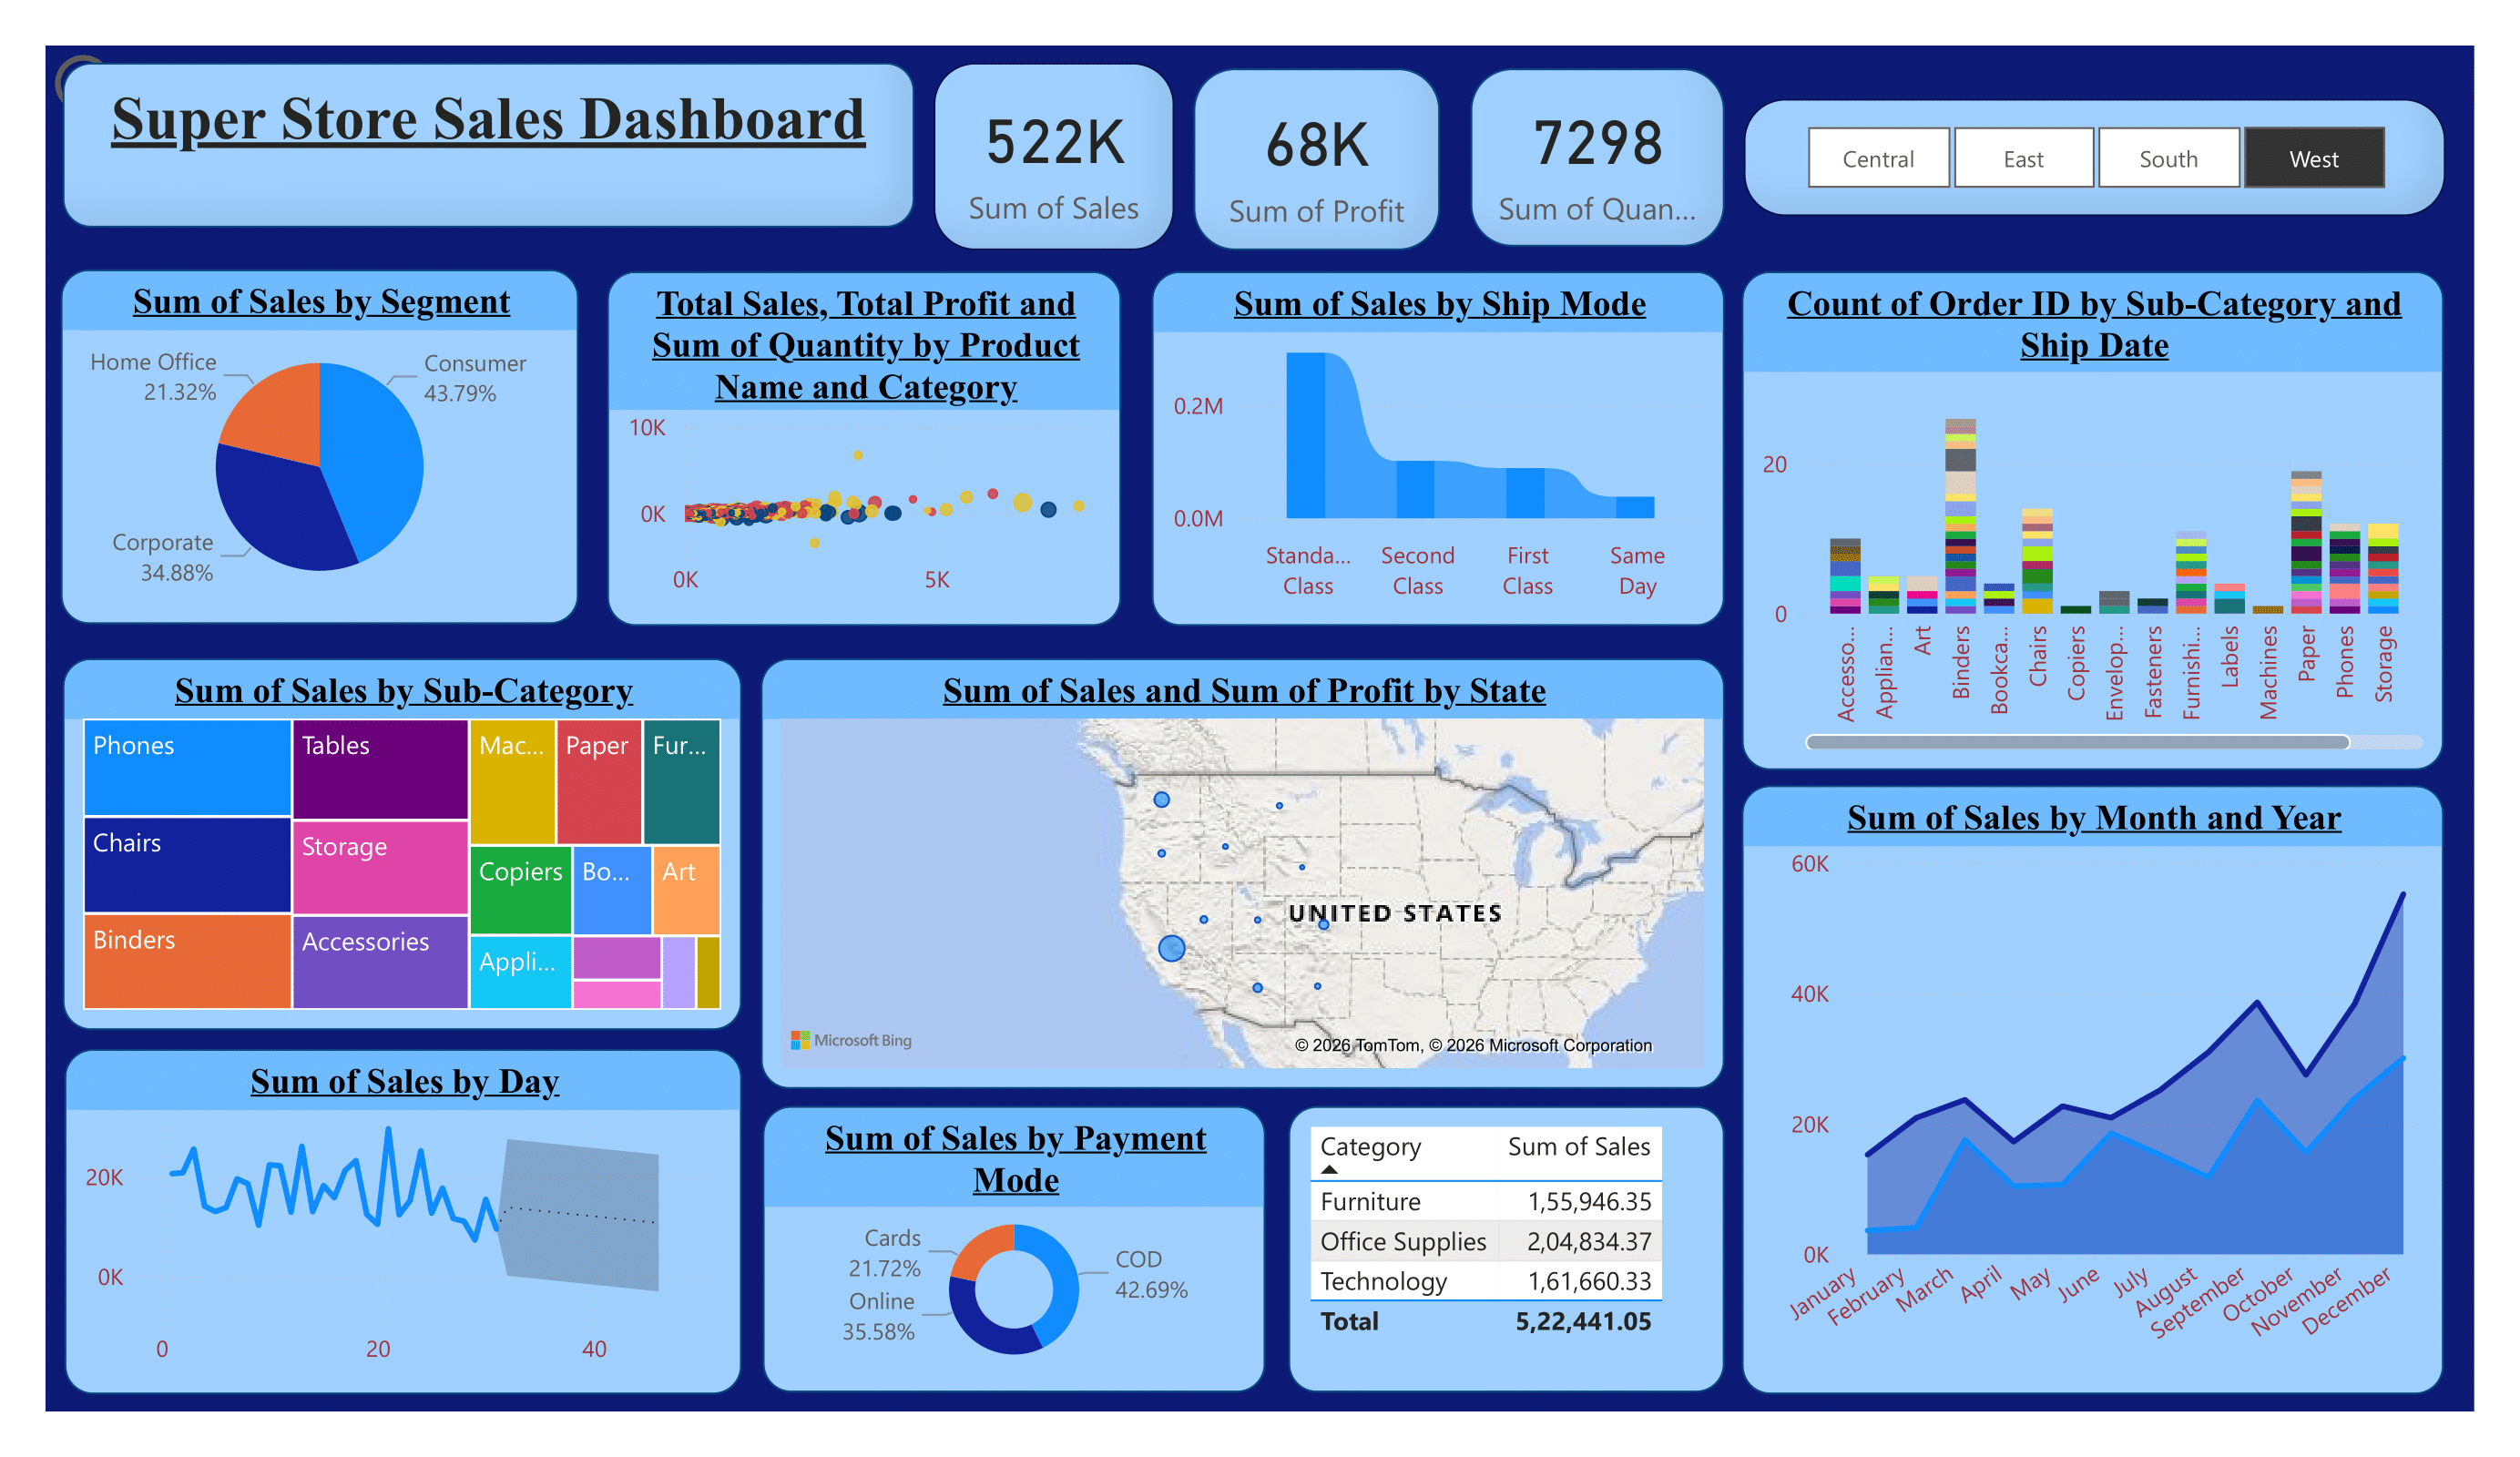

The page's visual inventory and layout, read from the dashboard file:
{"tool":"powerbi","page":{"name":"Page 1","canvas":[1280,720],"ordinal":0},"visuals":[{"type":"tableEx","fields":{"Values":["SuperStore_Sales_Dataset.Category","Sum(SuperStore_Sales_Dataset.Sales)"]},"box":[655.2,559.4,229.8,150.5],"z":0},{"type":"treemap","fields":{"Group":["SuperStore_Sales_Dataset.Sub-Category","SuperStore_Sales_Dataset.Category"],"Values":["Sum(SuperStore_Sales_Dataset.Sales)"]},"box":[9,323.1,357.7,196.2],"z":1000},{"type":"areaChart","fields":{"Category":["SuperStore_Sales_Dataset.Order Date.Variation.Date Hierarchy.Month","SuperStore_Sales_Dataset.Order Date.Variation.Date Hierarchy.Day"],"Y":["Sum(SuperStore_Sales_Dataset.Sales)"],"Series":["SuperStore_Sales_Dataset.Order Date.Variation.Date Hierarchy.Year"]},"box":[894,389.7,370.4,320.9],"z":2000},{"type":"map","fields":{"Category":["SuperStore_Sales_Dataset.State"],"Size":["Sum(SuperStore_Sales_Dataset.Sales)"]},"box":[376.9,323.1,507.7,226.9],"z":3000},{"type":"actionButton","box":[0,0,100,40],"z":4000},{"type":"donutChart","fields":{"Y":["Sum(SuperStore_Sales_Dataset.Sales)"],"Category":["SuperStore_Sales_Dataset.Payment Mode","SuperStore_Sales_Dataset.Segment"]},"box":[377.5,559.4,265.4,150.5],"z":5000},{"type":"slicer","fields":{"Values":["SuperStore_Sales_Dataset.Region"]},"box":[894.9,28.2,370.5,61.5],"z":6000},{"type":"textbox","box":[9,9,448.7,87.2],"z":7000},{"type":"card","fields":{"Values":["Sum(SuperStore_Sales_Dataset.Sales)"]},"box":[467.9,9,126.9,98.7],"z":8000},{"type":"card","fields":{"Values":["Sum(SuperStore_Sales_Dataset.Quantity)"]},"box":[751.3,11.5,133.3,94.9],"z":9000},{"type":"card","fields":{"Values":["Sum(SuperStore_Sales_Dataset.Profit)"]},"box":[605.1,11.5,129.5,96.2],"z":10000},{"type":"lineChart","fields":{"Category":["SuperStore_Sales_Dataset.Order Date.Variation.Date Hierarchy.Day"],"Y":["Sum(SuperStore_Sales_Dataset.Sales)"]},"box":[9.6,529.3,357,181.9],"z":11000},{"type":"columnChart","fields":{"Category":["SuperStore_Sales_Dataset.Sub-Category"],"Y":["CountNonNull(SuperStore_Sales_Dataset.Order ID)"],"Series":["SuperStore_Sales_Dataset.Ship Date"]},"box":[893.6,119.2,370.5,262.8],"z":12000},{"type":"ribbonChart","fields":{"Category":["SuperStore_Sales_Dataset.Ship Mode"],"Y":["Sum(SuperStore_Sales_Dataset.Sales)"]},"box":[583.3,119.2,301.3,187.2],"z":13000},{"type":"scatterChart","fields":{"Category":["SuperStore_Sales_Dataset.Product Name","SuperStore_Sales_Dataset.Order Date.Variation.Date Hierarchy.Month"],"X":["SuperStore_Sales_Dataset.Total Sales"],"Y":["SuperStore_Sales_Dataset.Total Profit"],"Size":["Sum(SuperStore_Sales_Dataset.Quantity)"],"Series":["SuperStore_Sales_Dataset.Category"]},"box":[296.2,119.2,270.5,187.2],"z":14000},{"type":"pieChart","fields":{"Y":["Sum(SuperStore_Sales_Dataset.Sales)"],"Category":["SuperStore_Sales_Dataset.Segment"]},"box":[8.4,118.2,272.7,187],"z":15000}]}

Visuals, with their boxes in screenshot pixels (x1, y1, x2, y2):
tableEx - SuperStore_Sales_Dataset.Category x Sum(SuperStore_Sales_Dataset.Sales): Rect(1289, 1106, 1725, 1392)
treemap - SuperStore_Sales_Dataset.Sub-Category x SuperStore_Sales_Dataset.Category: Rect(63, 658, 741, 1031)
areaChart - SuperStore_Sales_Dataset.Order Date.Variation.Date Hierarchy.Month x SuperStore_Sales_Dataset.Order Date.Variation.Date Hierarchy.Day: Rect(1742, 785, 2444, 1393)
map - SuperStore_Sales_Dataset.State x Sum(SuperStore_Sales_Dataset.Sales): Rect(760, 658, 1724, 1089)
actionButton: Rect(46, 46, 235, 121)
donutChart - Sum(SuperStore_Sales_Dataset.Sales) x SuperStore_Sales_Dataset.Payment Mode: Rect(762, 1106, 1266, 1392)
slicer - SuperStore_Sales_Dataset.Region: Rect(1744, 99, 2447, 216)
textbox: Rect(63, 63, 914, 228)
card - Sum(SuperStore_Sales_Dataset.Sales): Rect(934, 63, 1174, 250)
card - Sum(SuperStore_Sales_Dataset.Quantity): Rect(1471, 67, 1724, 248)
card - Sum(SuperStore_Sales_Dataset.Profit): Rect(1194, 67, 1440, 250)
lineChart - SuperStore_Sales_Dataset.Order Date.Variation.Date Hierarchy.Day x Sum(SuperStore_Sales_Dataset.Sales): Rect(64, 1050, 741, 1395)
columnChart - SuperStore_Sales_Dataset.Sub-Category x CountNonNull(SuperStore_Sales_Dataset.Order ID): Rect(1741, 271, 2444, 770)
ribbonChart - SuperStore_Sales_Dataset.Ship Mode x Sum(SuperStore_Sales_Dataset.Sales): Rect(1152, 271, 1724, 627)
scatterChart - SuperStore_Sales_Dataset.Product Name x SuperStore_Sales_Dataset.Order Date.Variation.Date Hierarchy.Month: Rect(607, 271, 1121, 627)
pieChart - Sum(SuperStore_Sales_Dataset.Sales) x SuperStore_Sales_Dataset.Segment: Rect(62, 270, 579, 625)
